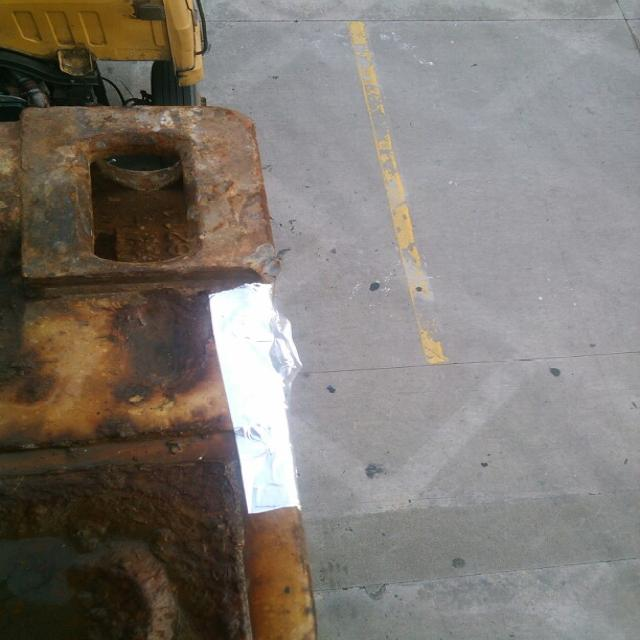rust: (1, 104, 302, 640)
